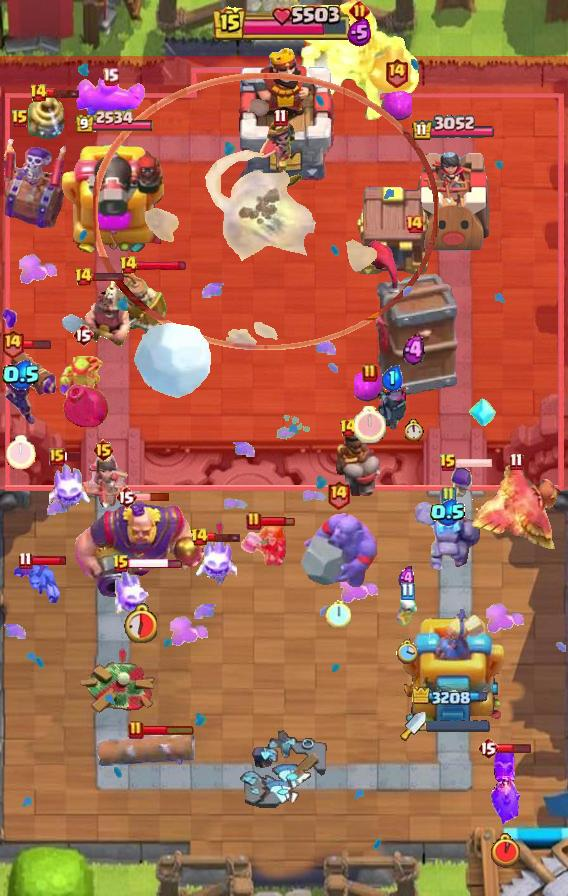bar: (128, 557, 183, 570), (136, 259, 187, 272), (142, 724, 195, 736), (456, 457, 493, 469), (206, 531, 242, 543), (45, 87, 81, 99), (497, 742, 532, 754), (260, 515, 295, 527), (17, 338, 52, 350), (31, 555, 68, 566), (90, 271, 125, 282), (135, 492, 170, 502), (63, 451, 83, 462)
bar-level: (326, 479, 351, 510), (0, 328, 25, 359), (384, 57, 409, 88), (92, 438, 115, 462), (477, 736, 499, 760), (115, 485, 137, 509), (72, 323, 94, 347), (349, 0, 370, 21), (404, 214, 424, 234), (190, 527, 209, 547), (339, 418, 358, 438), (74, 267, 93, 287), (119, 255, 138, 275), (29, 83, 48, 103), (112, 554, 130, 574), (439, 453, 457, 473), (11, 109, 29, 129), (102, 67, 119, 86), (128, 720, 144, 740), (246, 511, 262, 531), (440, 486, 456, 506), (362, 363, 378, 383), (49, 448, 65, 466), (400, 582, 415, 601), (18, 551, 33, 570), (509, 452, 524, 471), (273, 108, 288, 127)
bomb: (60, 379, 112, 433)
bomber-evolution: (488, 745, 522, 827)
cannoneer-tower: (60, 138, 168, 256)
clock: (123, 603, 157, 643), (354, 406, 386, 443), (6, 435, 36, 470), (491, 833, 520, 868), (325, 599, 351, 628), (396, 639, 418, 665), (405, 419, 424, 441)
dagger-duchess-tower: (401, 601, 505, 731)
dagger-duchess-tower-bar: (426, 720, 490, 732)
elixir: (2, 360, 41, 390), (430, 499, 466, 526), (347, 18, 372, 47), (403, 334, 425, 366), (381, 365, 403, 391), (398, 566, 416, 590)
elixir-golem-mid: (74, 74, 146, 124)
elixir-golem-small: (354, 372, 386, 402), (380, 91, 412, 121)
firecracker-evolution: (0, 342, 60, 428)
golemite: (415, 499, 481, 571)
ice-spirit-evolution: (193, 533, 237, 587), (49, 460, 93, 514), (112, 567, 152, 619)
ice-spirit-evolution-symbol: (469, 395, 497, 429)
king-tower: (229, 43, 339, 181)
king-tower-bar: (213, 5, 355, 43)
little-prince: (257, 116, 303, 196)
miner: (61, 276, 132, 348)
mini-pekka: (376, 384, 409, 431)
minion: (11, 558, 63, 604)
princess: (77, 450, 129, 508)
queen-tower: (410, 145, 496, 256)
ram-rider: (334, 424, 386, 498)
royal-recruit: (112, 267, 168, 333)
skeleton: (395, 596, 419, 626)
skeleton-evolution: (448, 466, 478, 506)
spear-goblin: (59, 351, 107, 399)
the-log: (95, 726, 197, 770)
tower-bar: (411, 115, 496, 142), (74, 110, 154, 135), (412, 687, 494, 709)
valkyrie: (239, 522, 287, 568)
zappy: (26, 95, 74, 143)
